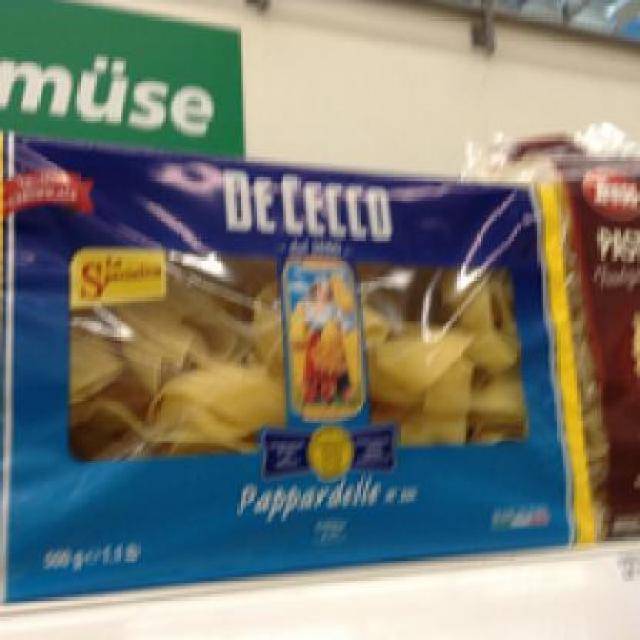Pasta: (0, 124, 595, 601)
